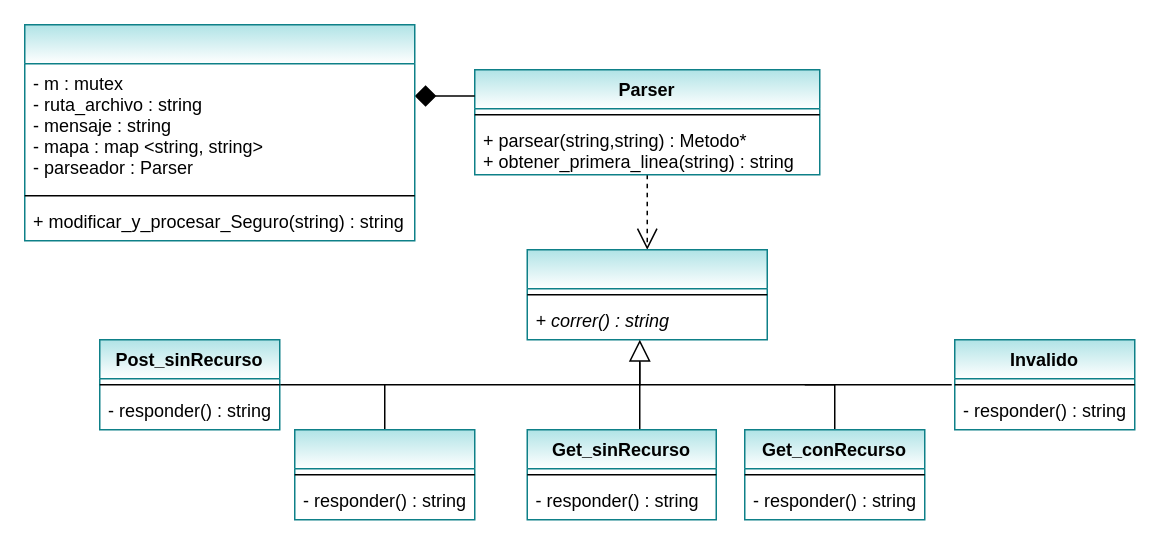
Image size: 1160x545. Some labels were removed from this diagram. The shapes that lost their labels are listed below. From the top down, each one's box as (x1, y1, x2, y2) in pixels, then its label:
(23, 23, 415, 241): Items_servidor
(526, 248, 767, 340): Metodo
(293, 428, 475, 520): Post_conRecurso
